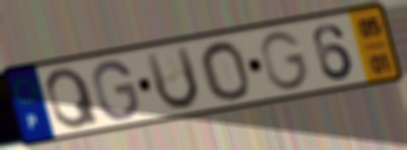6: (310, 23, 355, 82)
G: (258, 29, 312, 93), (91, 58, 141, 123)
O: (197, 39, 253, 103)
Q: (44, 65, 103, 132)
U: (142, 43, 203, 114)
